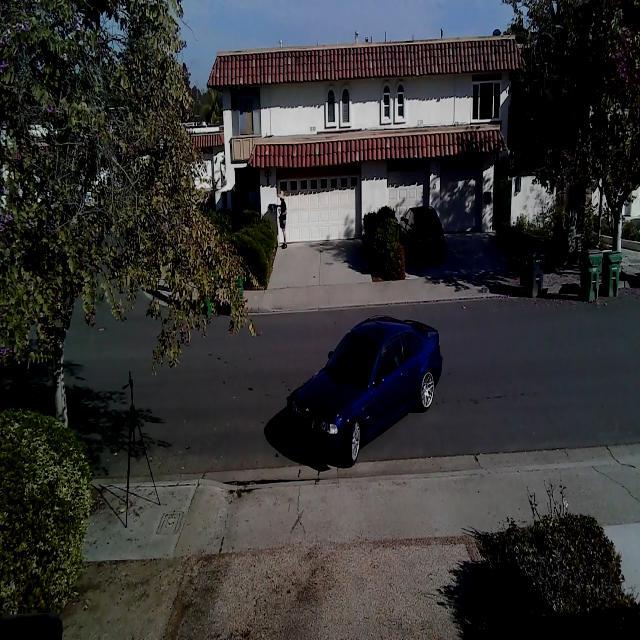Carbeetle: (274, 313, 452, 473)
Civilian: (399, 205, 445, 263)
